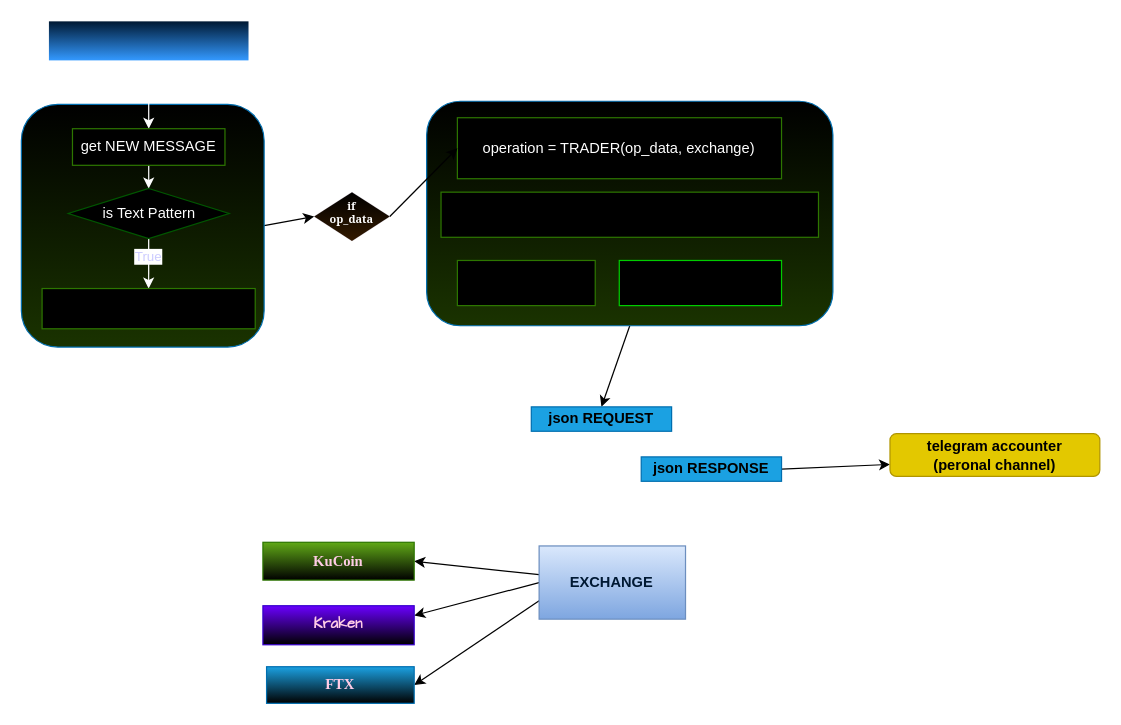
This 1121x725 diagram has some shape labels left out. The centre of each missing label's shape, as x and y in pixels:
"GET_FREE_BALANCE( )" goes at (x=525, y=282).
"GET_TOTAL_BALANCE( )" goes at (x=700, y=282).
"op_data = PARSER(message)" goes at (x=148, y=308).
"TELEGRAM channel" goes at (x=148, y=40).
"trigger_quantities = TRIGGERS_BALANCER(op_data)" goes at (x=629, y=214).
